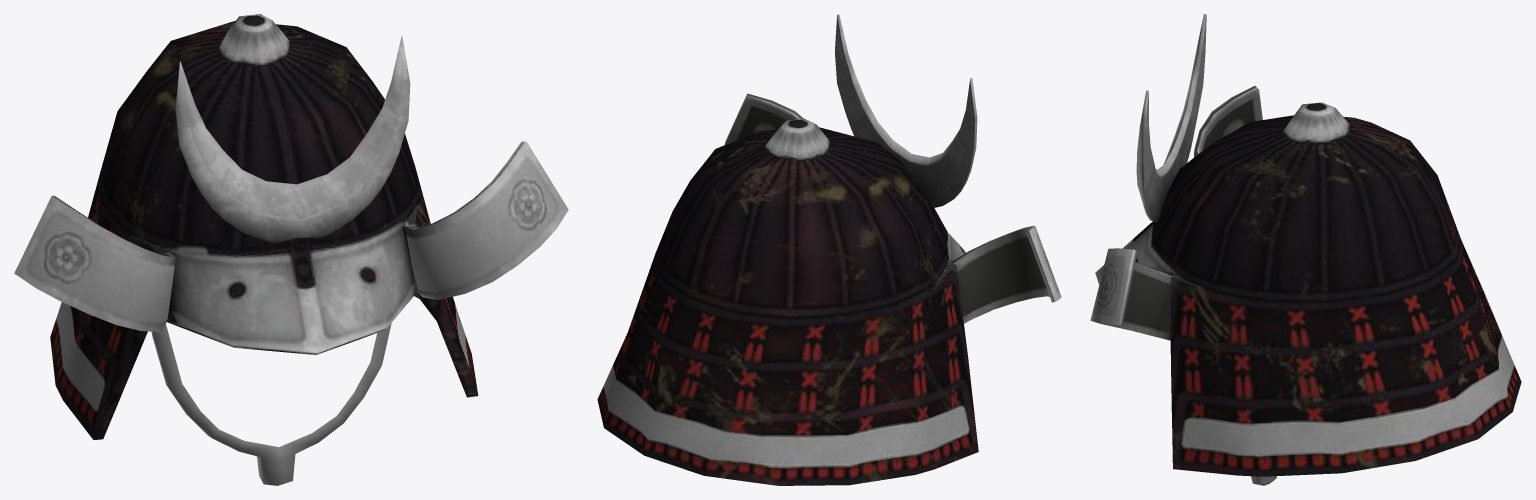
Rendered from helmet-mediumdojosoldiers.glb.
3 renders of one model, left to right at view 1: azimuth 30°, elevation 25°; view 2: azimuth 150°, elevation 25°; view 3: azimuth 270°, elevation 25°, orthographic. The views are drawn at different scales.
Size of the model in its own units: 0.3989 by 0.3911 by 0.3651.
1 material, 1 textured.
